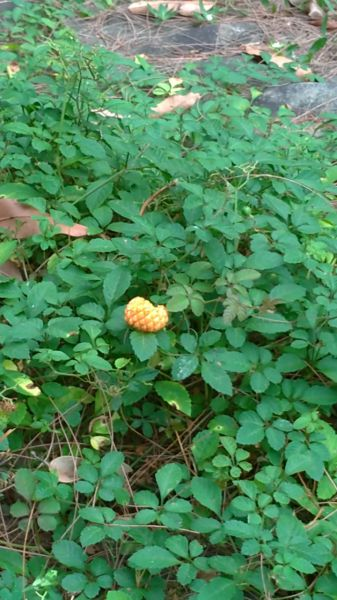eggs: (120, 294, 172, 338)
